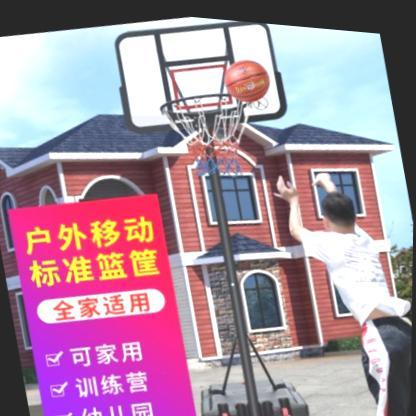basketball: (222, 50, 273, 102)
rim: (157, 77, 263, 186)
